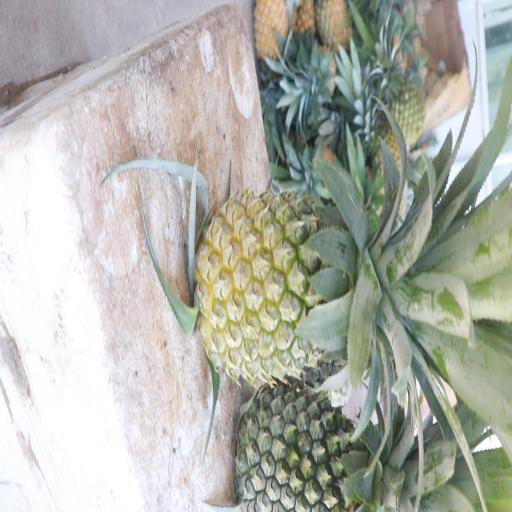Pineapple - v8 v1: (192, 182, 388, 379), (247, 0, 290, 67), (314, 0, 352, 49)
